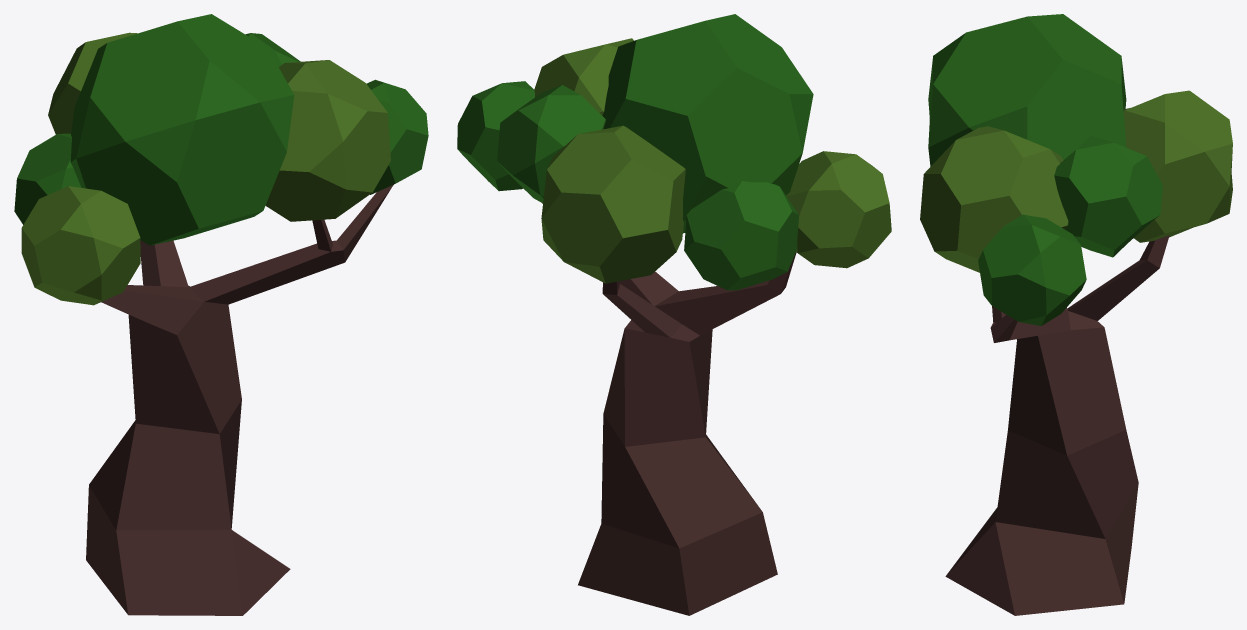
The model's file is LowPolyTree.fbx.
3 views of the same model, side by side, from view 1: azimuth 30°, elevation 25°; view 2: azimuth 150°, elevation 25°; view 3: azimuth 270°, elevation 25° (orthographic). The views are drawn at different scales.
Visible parts, largest first — view 1: Trunk, Leaves, Leaves.001; view 2: Leaves, Trunk, Leaves.001; view 3: Trunk, Leaves, Leaves.001.
Boxes of the visible parts, x1,y1,x2,y2 form: Trunk: [86, 184, 393, 615]; Leaves: [14, 14, 428, 245]; Leaves.001: [21, 32, 390, 305]; Leaves: [457, 14, 813, 290]; Trunk: [542, 203, 796, 615]; Leaves.001: [534, 38, 891, 283]; Trunk: [945, 235, 1169, 615]; Leaves: [928, 14, 1162, 325]; Leaves.001: [920, 90, 1232, 272].
Size of the model in its own units: 896 by 1176 by 607.
